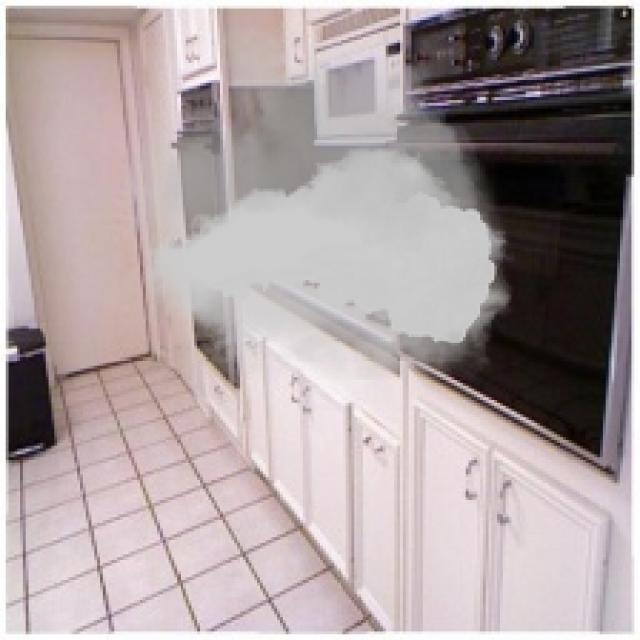Smoke: (120, 2, 523, 412)
